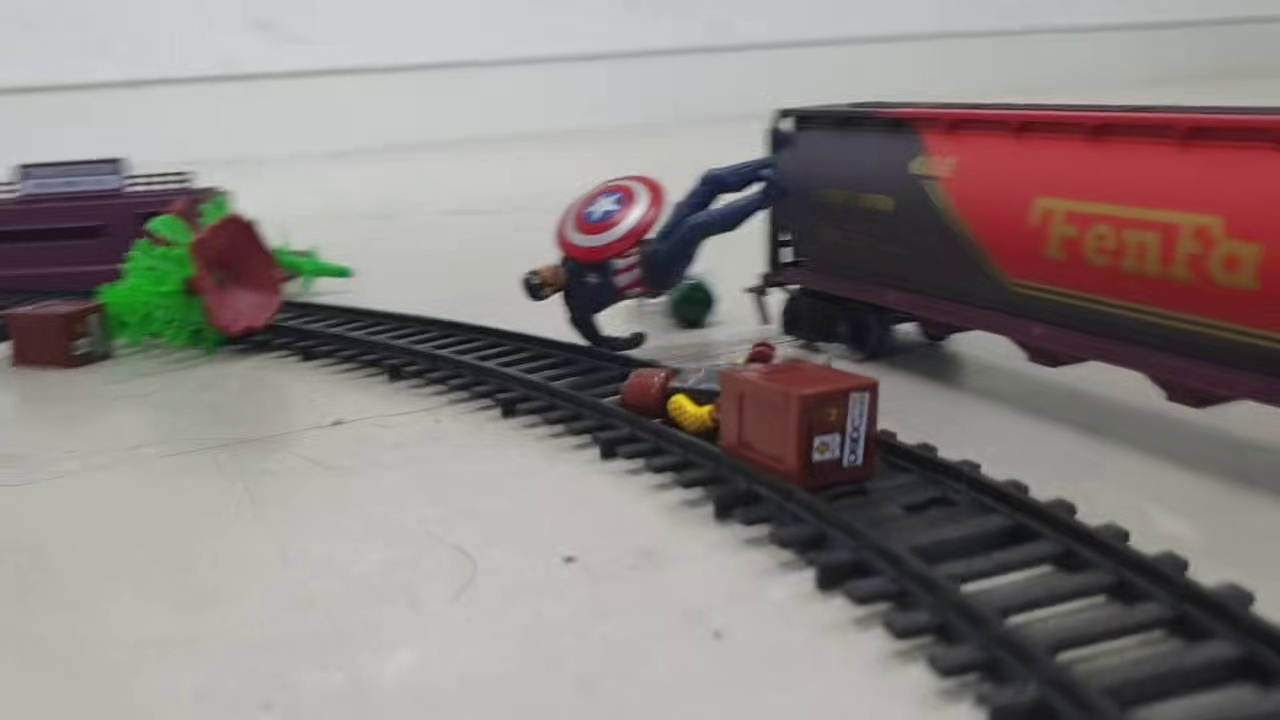box: (717, 356, 881, 489), (4, 294, 117, 369)
people: (521, 156, 773, 352), (619, 343, 719, 432)
tree: (83, 197, 283, 356), (115, 189, 356, 299)
